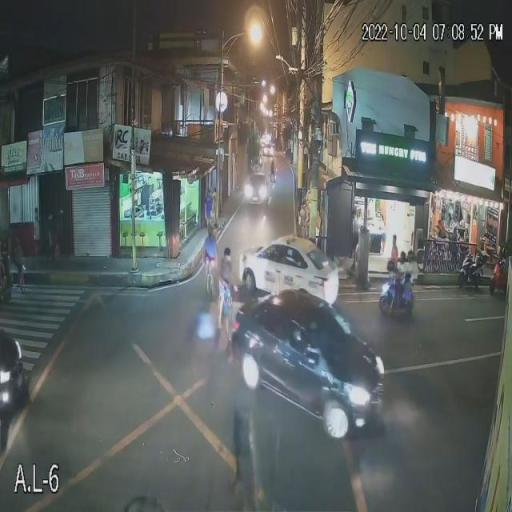helmet: (407, 250, 415, 262), (399, 250, 406, 261)
motorcycle: (377, 279, 415, 315)
rider: (403, 263, 417, 304), (396, 264, 406, 306)
